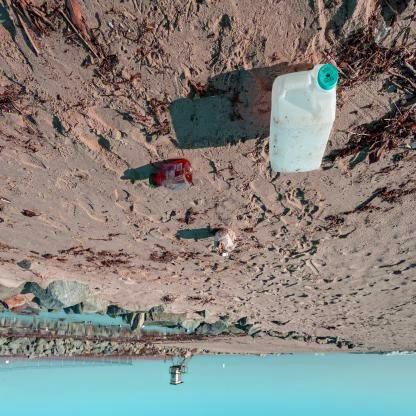Plastic: (268, 61, 340, 177), (148, 158, 193, 191), (212, 227, 234, 257)
